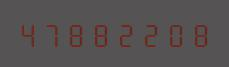eight: (65, 20, 88, 47), (89, 20, 112, 47), (185, 20, 208, 47)
four: (17, 20, 40, 47)
seven: (41, 20, 64, 47)
two: (113, 20, 136, 47), (137, 20, 160, 47)
zero: (161, 20, 184, 47)
